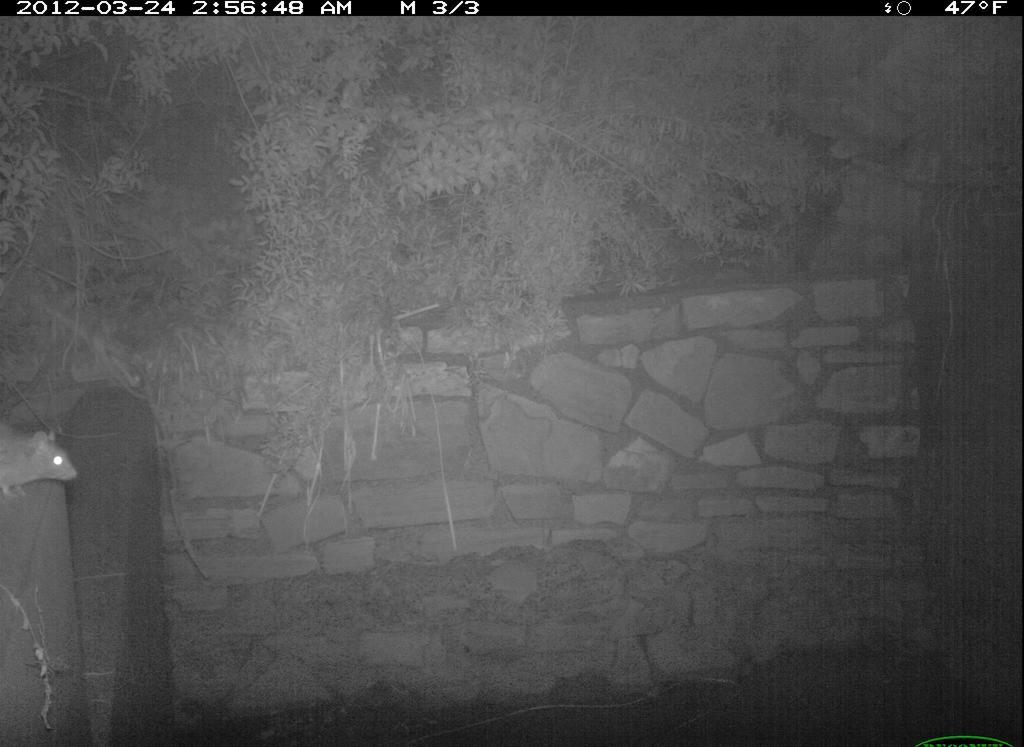rodent: (1, 415, 88, 511)
